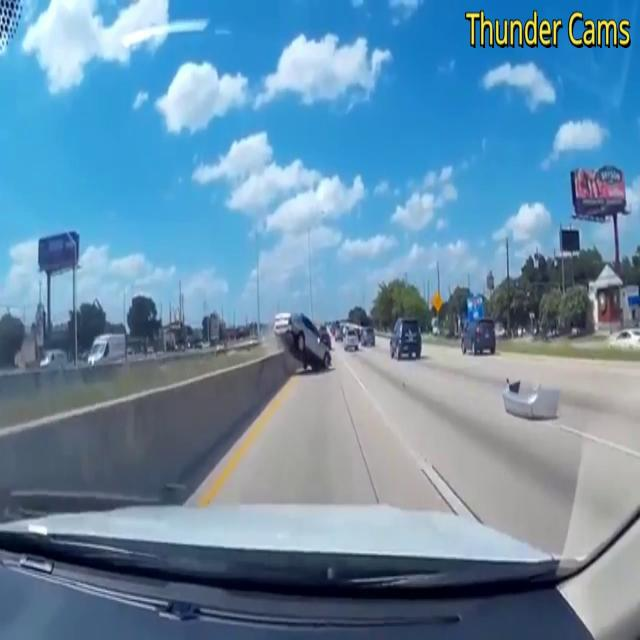accident: (270, 306, 338, 382)
